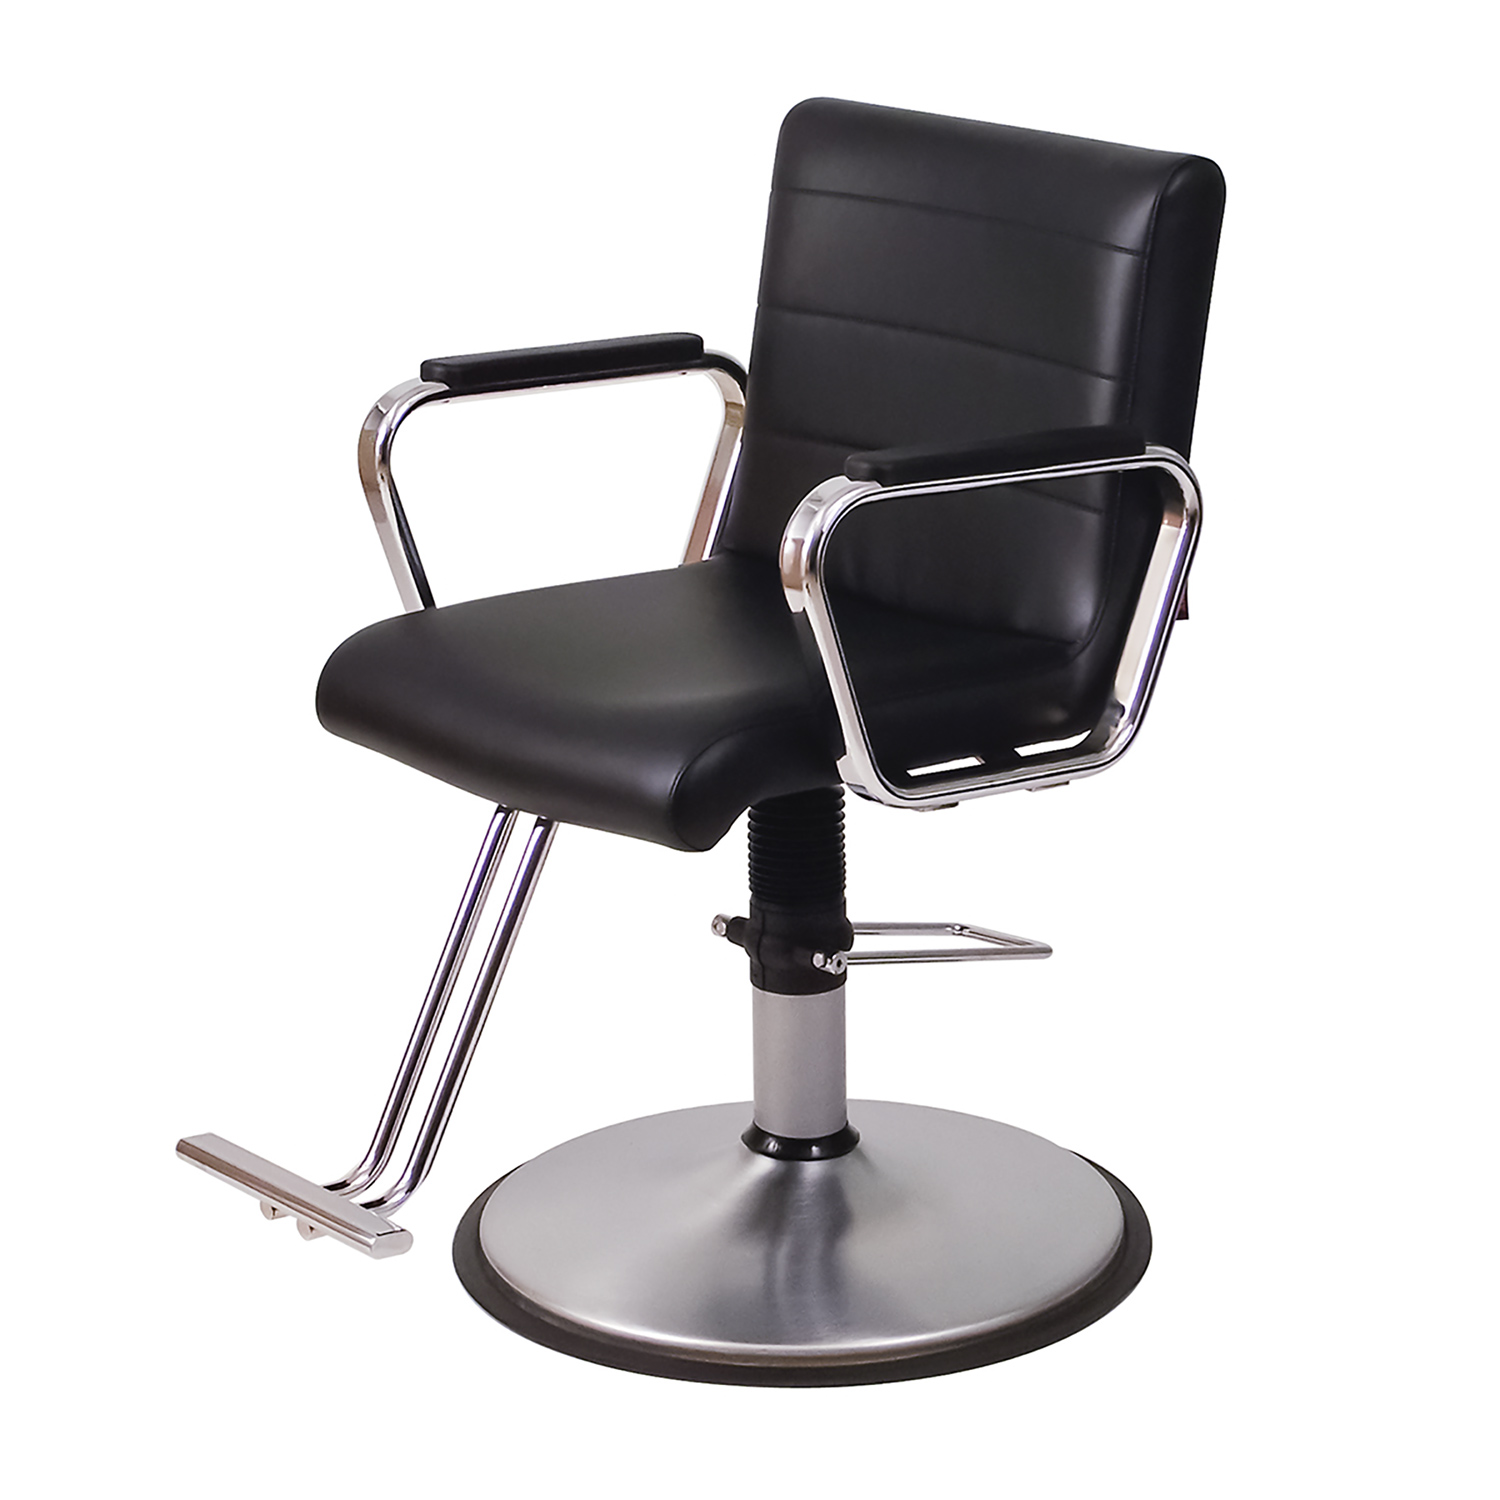chairs: (166, 96, 1240, 1393)
